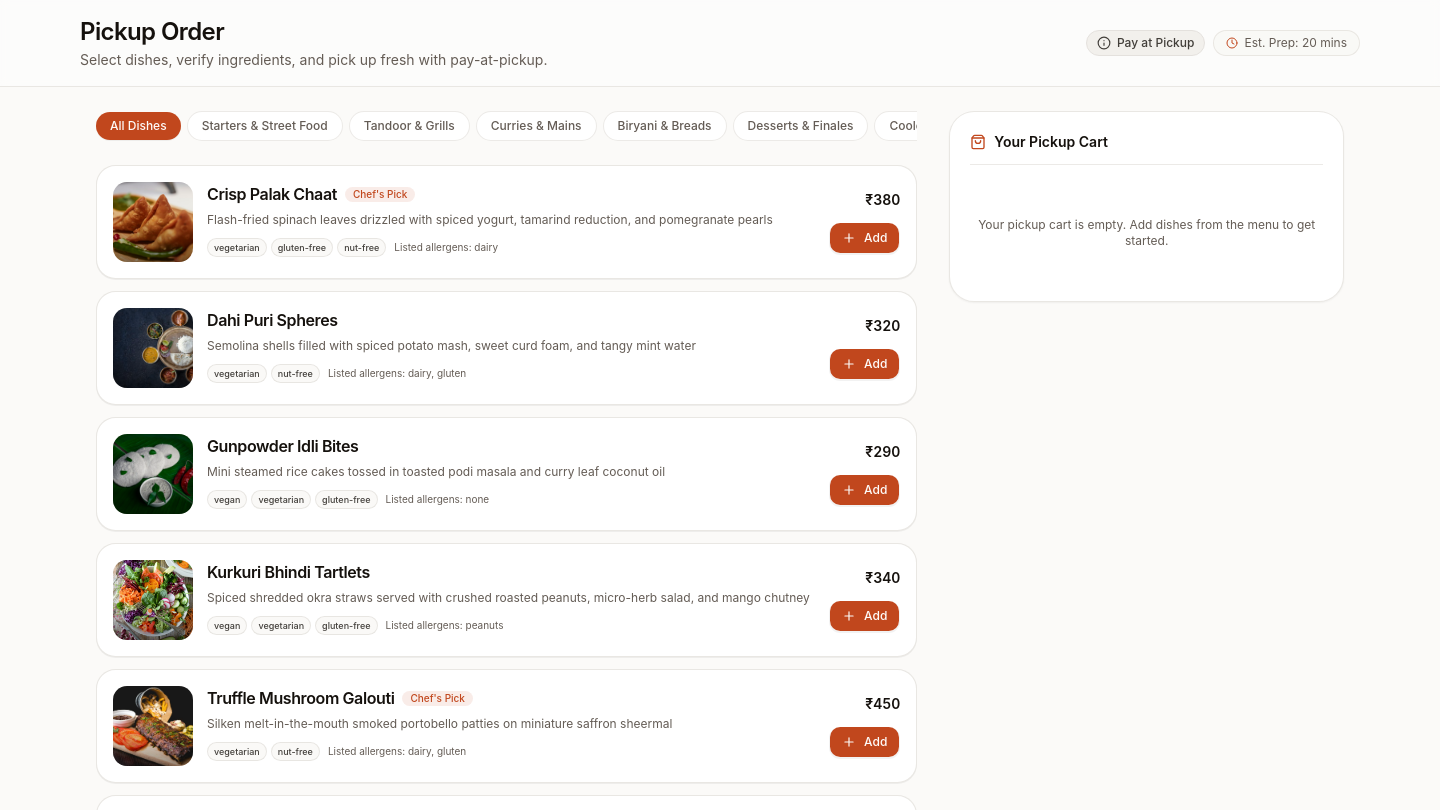
Test: Order Page (/order) › validates customer name, places pickup order, and displays code block confirmation
Note: Add item
Click the 1st button "Add" at (865, 238), box [829,222,900,254]
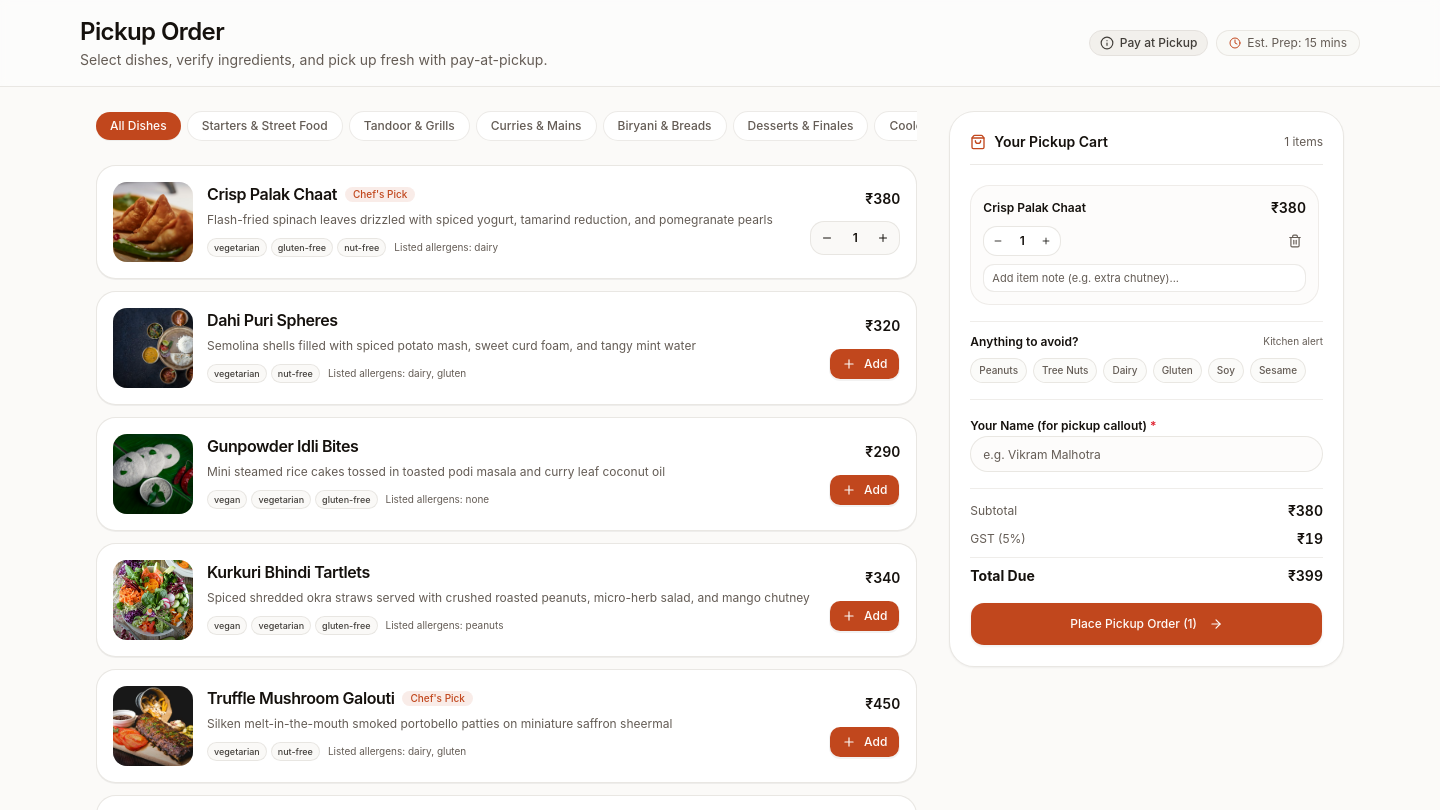
Note: Enter customer name
Type "Kavita Rao" into the field with placeholder "e.g. Vikram Malhotra" at (1147, 454), box [970,436,1323,472]
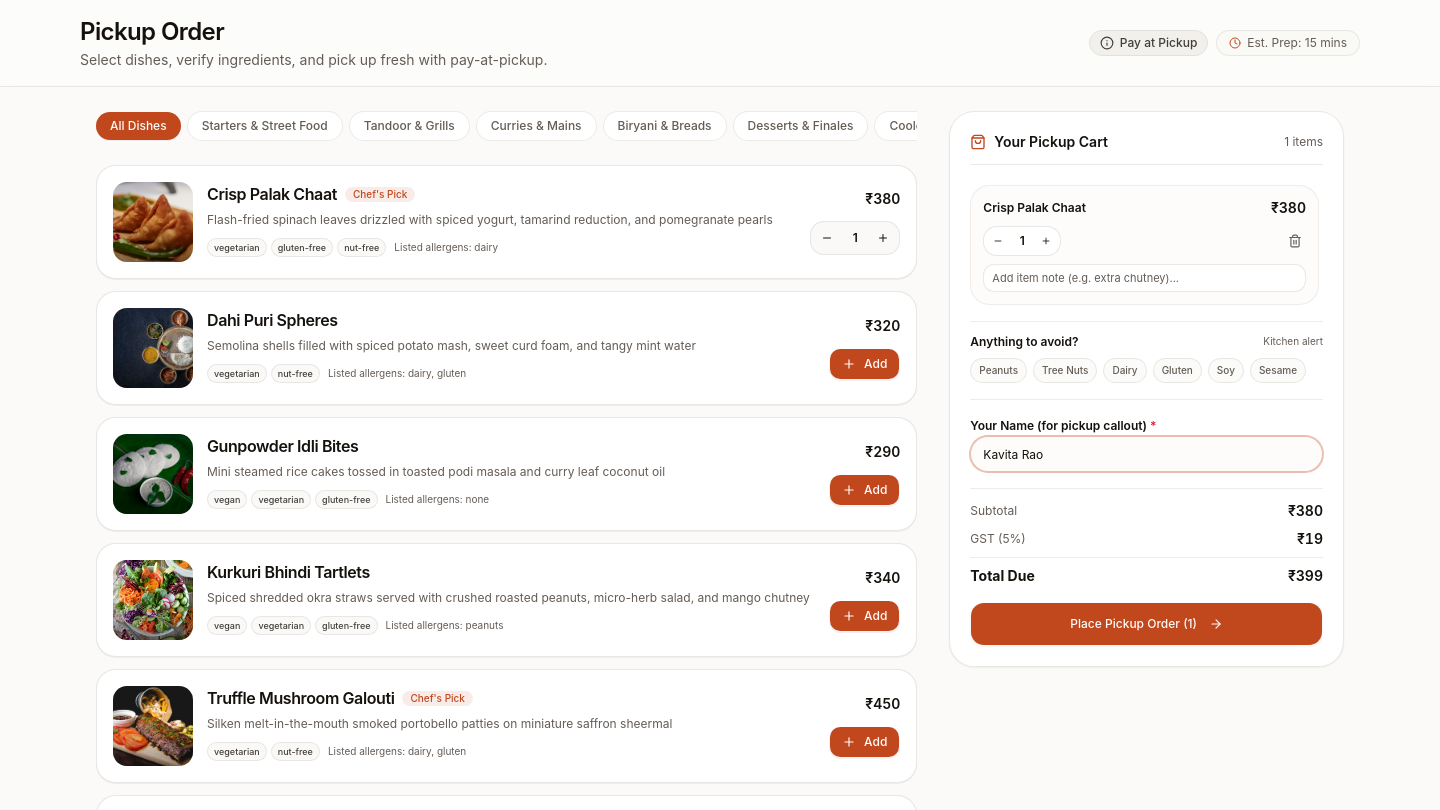
Note: Place order
Click the button "Place Pickup Order (1)" at (1147, 624), box [970,602,1323,646]
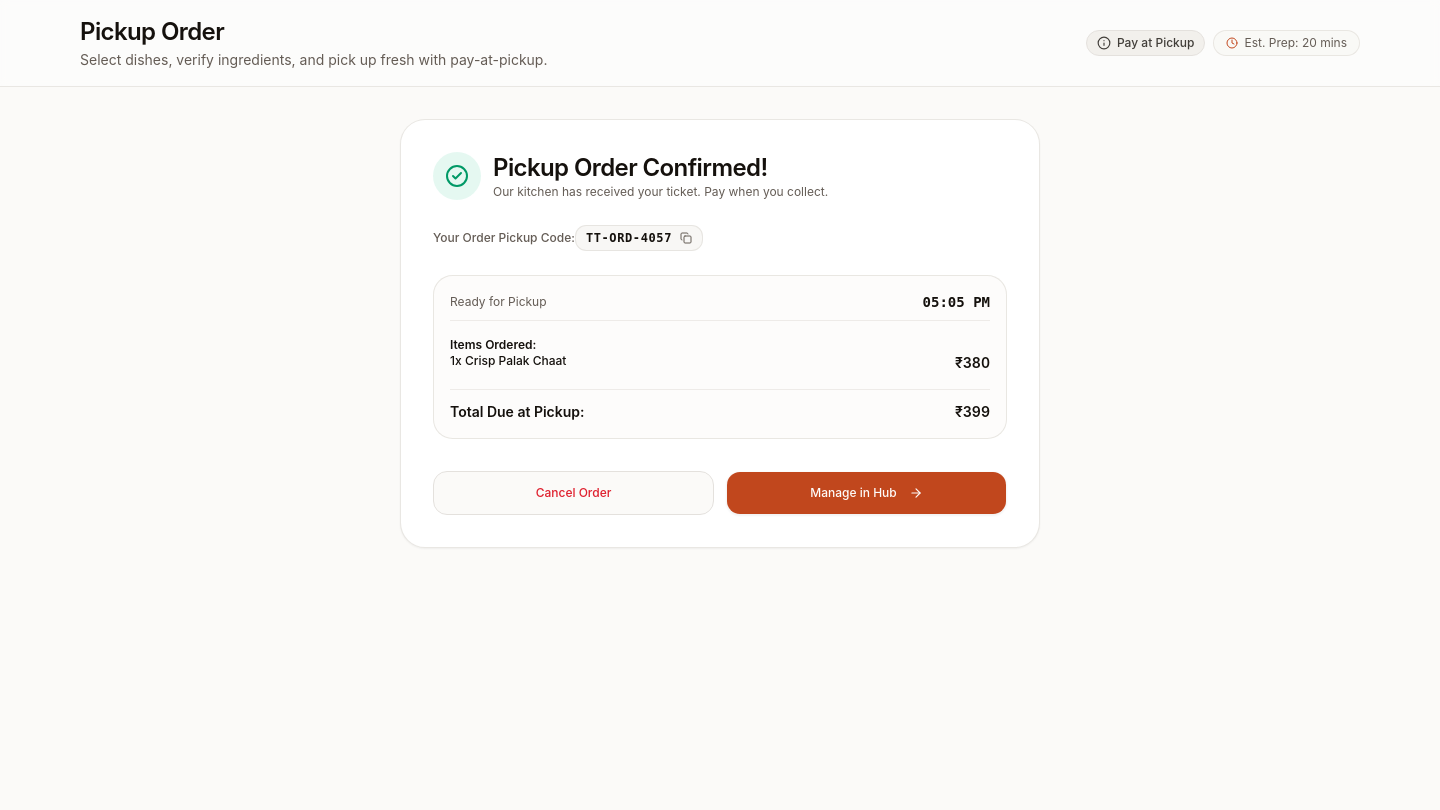
expect the heading "Pickup Order Confirmed!" is shown: met, box [493,153,768,182]
expect the text "Ready for Pickup" is shown: met, box [450,294,547,310]
expect the button "Cancel Order" is shown: met, box [433,471,714,515]
